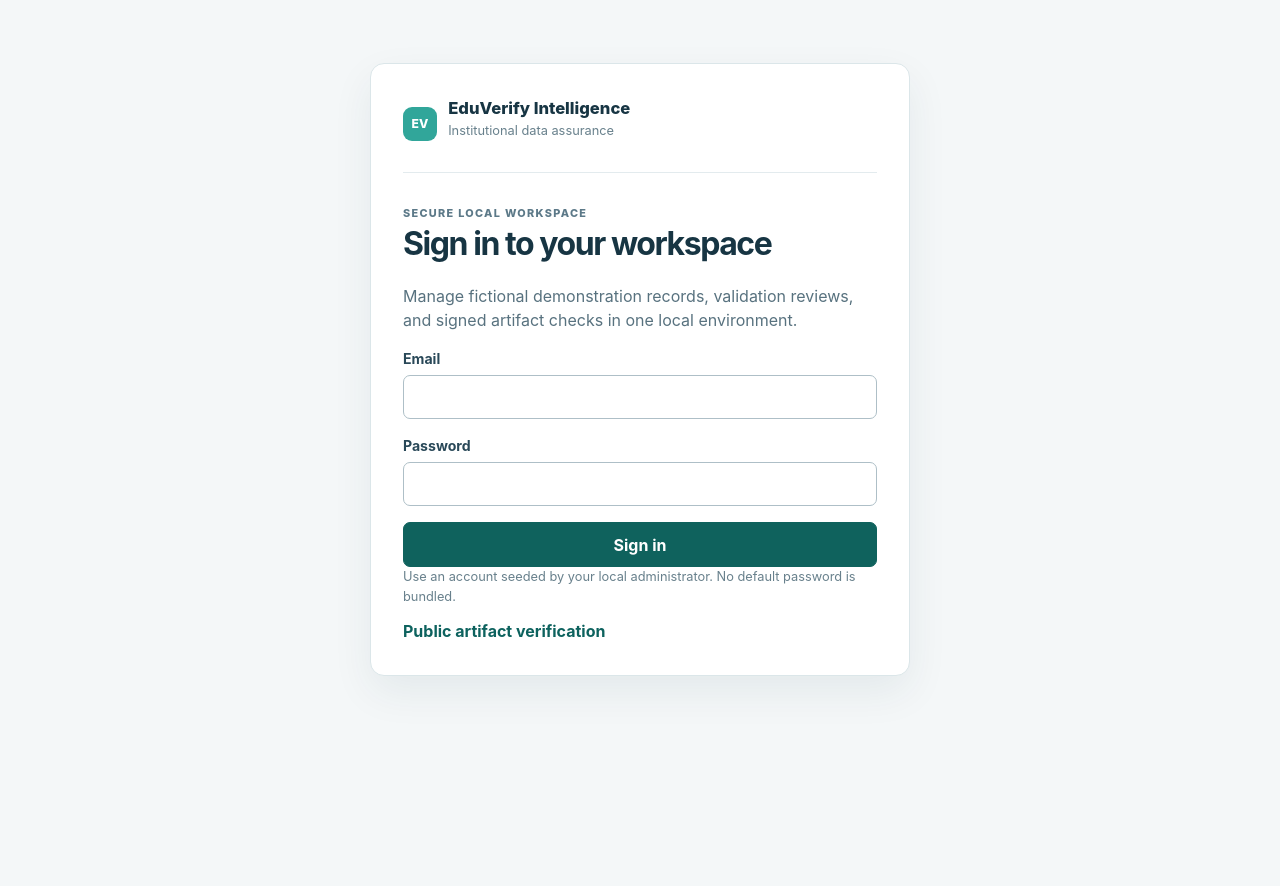
session and role workflows › logs in with CSRF, normalized email and cookie credentials; logs out
Step 1. Type "ADMIN@demo.example" into the field labelled "Email" → (640, 397), box top-left (403, 375), bottom-right (877, 419)
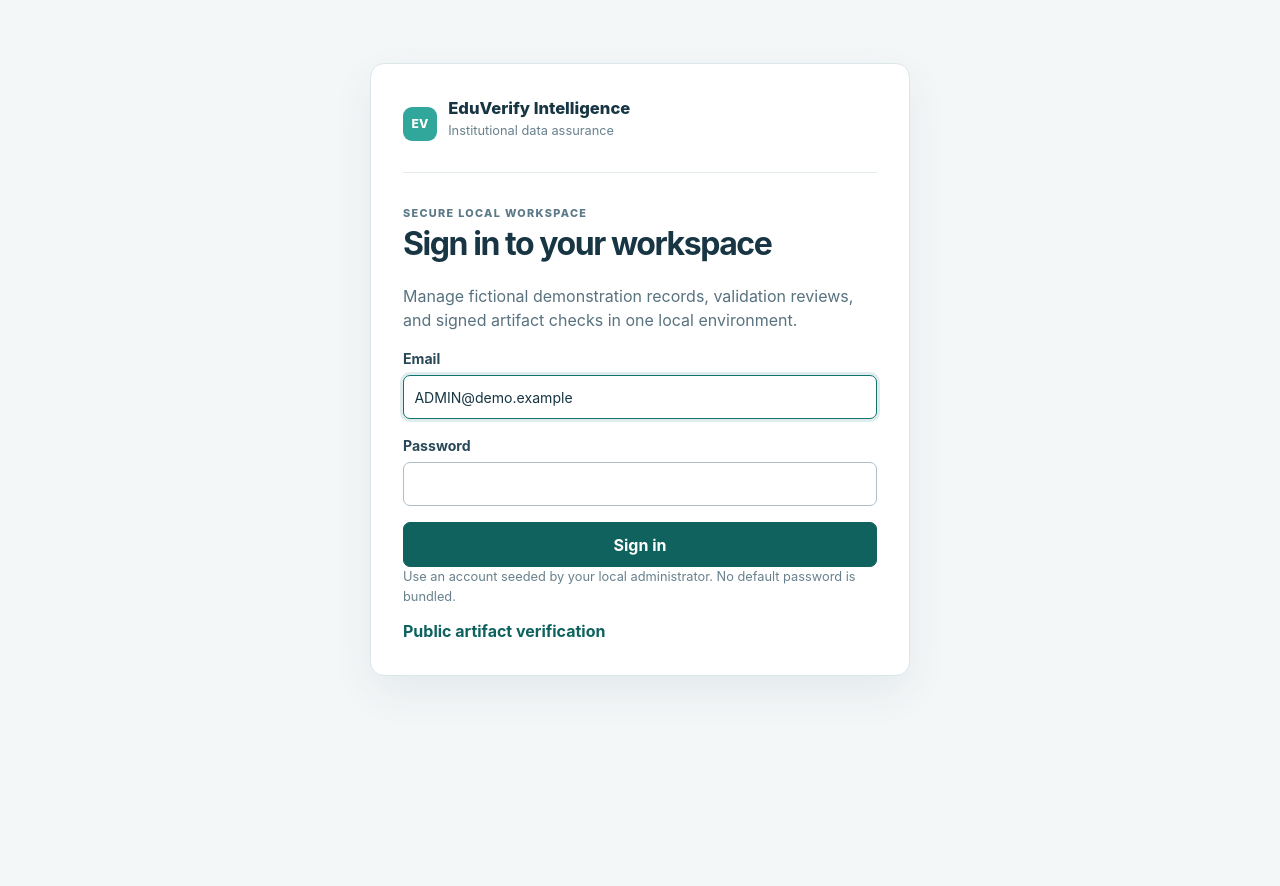
Step 2. Type "fictional-only-password" into the password field labelled "Password" → (640, 484), box top-left (403, 462), bottom-right (877, 506)
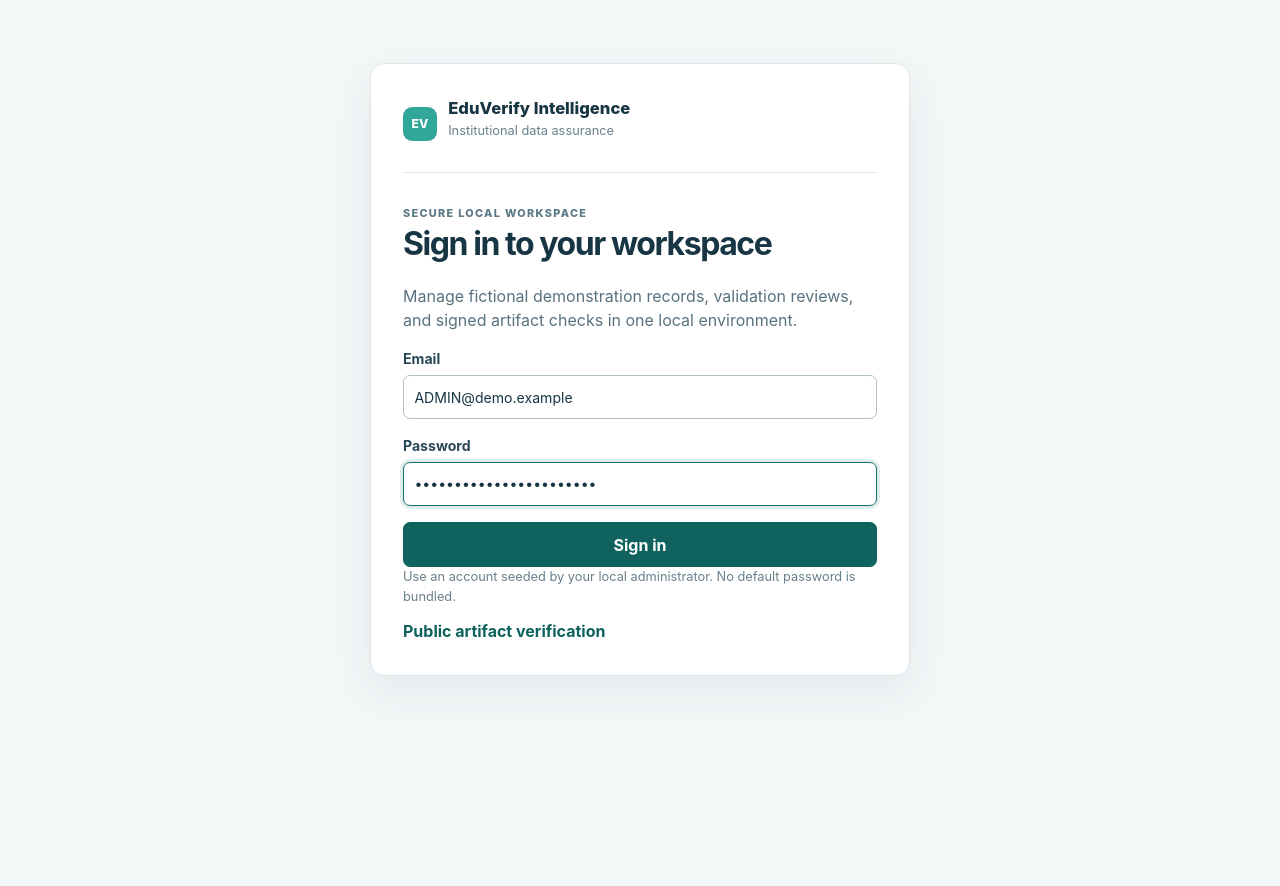
Step 3. Click the button "Sign in" → (640, 545), box top-left (403, 522), bottom-right (877, 568)
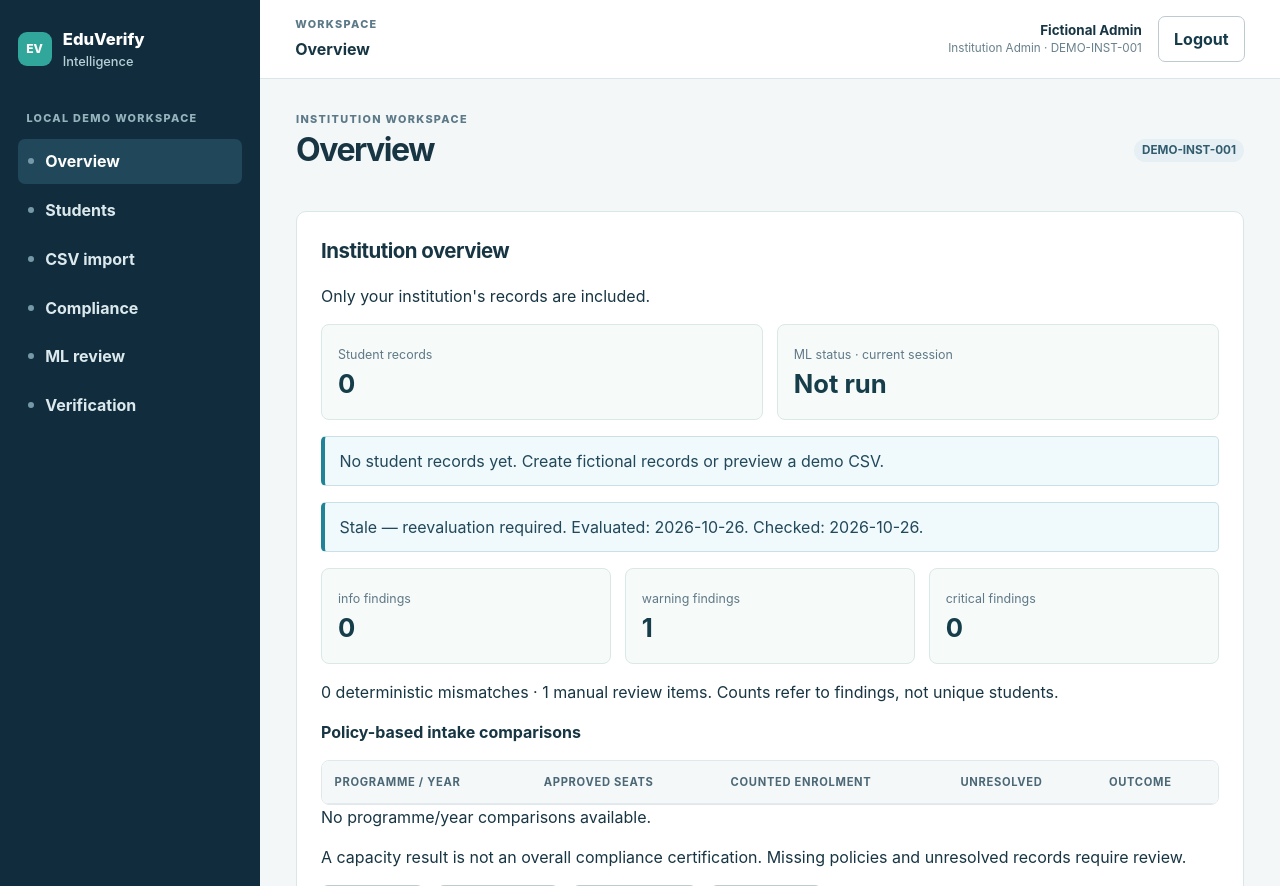
Expected: the text "Fictional Admin" is shown, top-left (1040, 22), bottom-right (1142, 38)
Step 4. Click the button "Logout" → (1201, 39), box top-left (1158, 16), bottom-right (1245, 62)
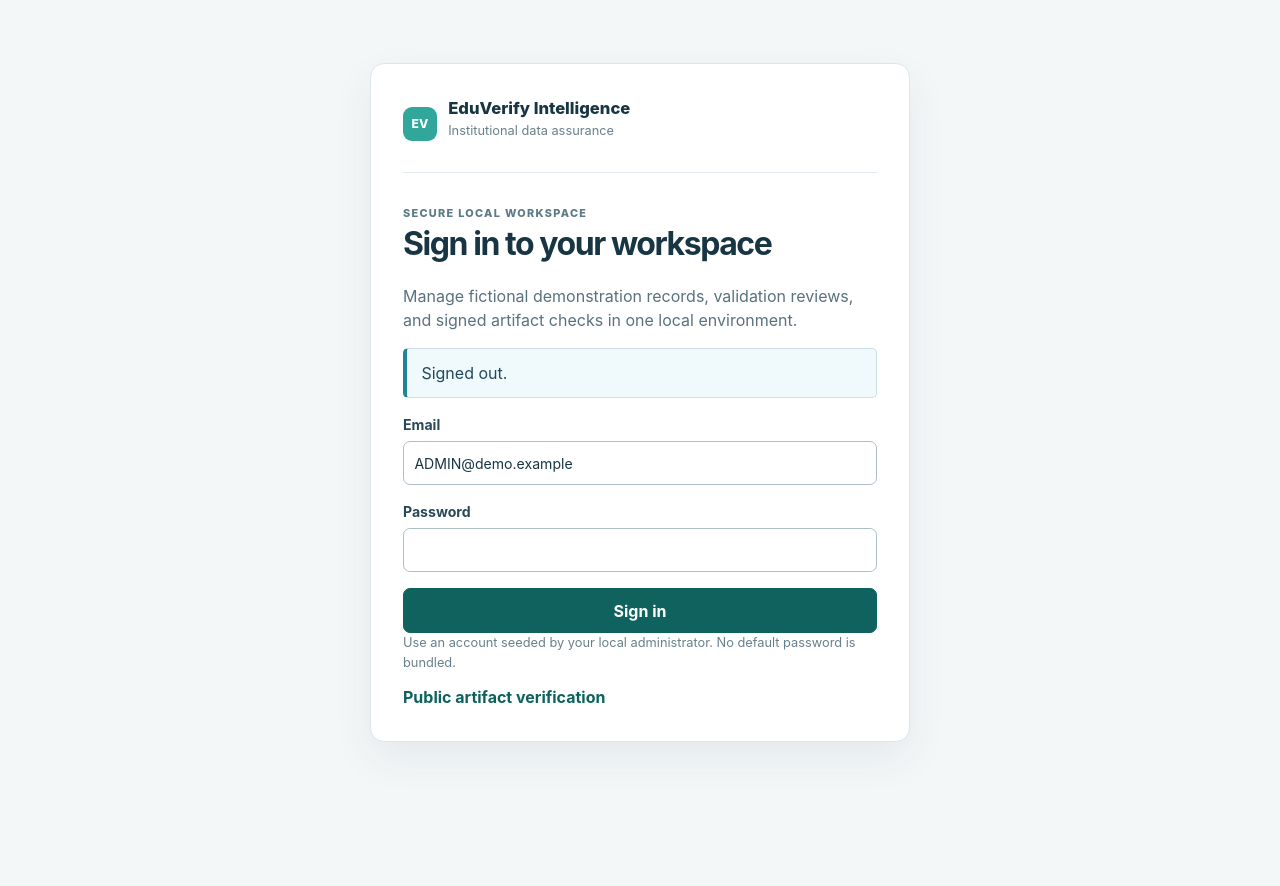
Expected: the text "Signed out." is shown, top-left (403, 348), bottom-right (877, 398)
